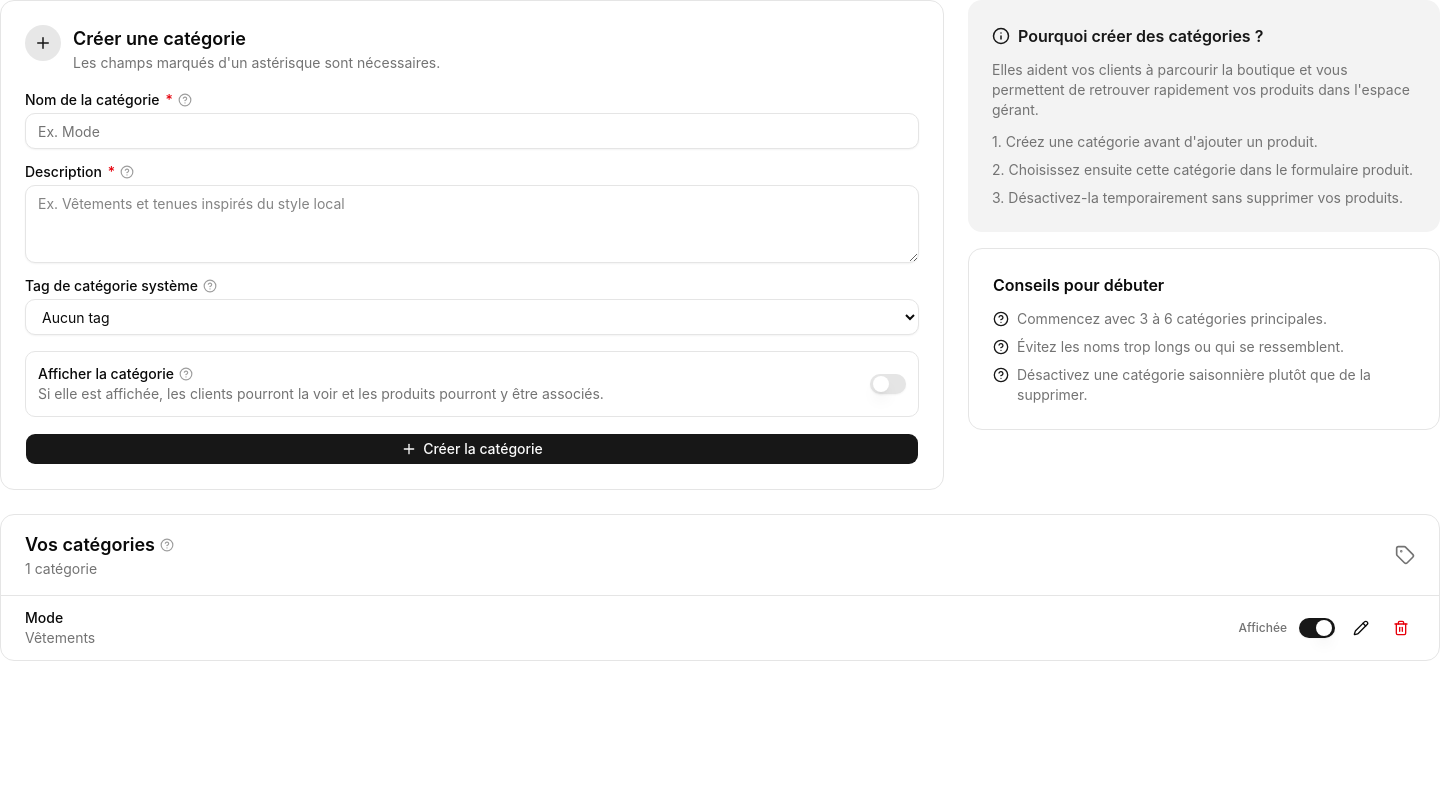
Test: CategoryManager › modifier une catégorie (double-clic ou icône) › opens the edit dialog via the edit icon, pre-filled, and saves changes
The image size is (1440, 810).
Click the button named "Modifier Mode" at coordinates (1361, 628), box 1347,614 -> 1375,642
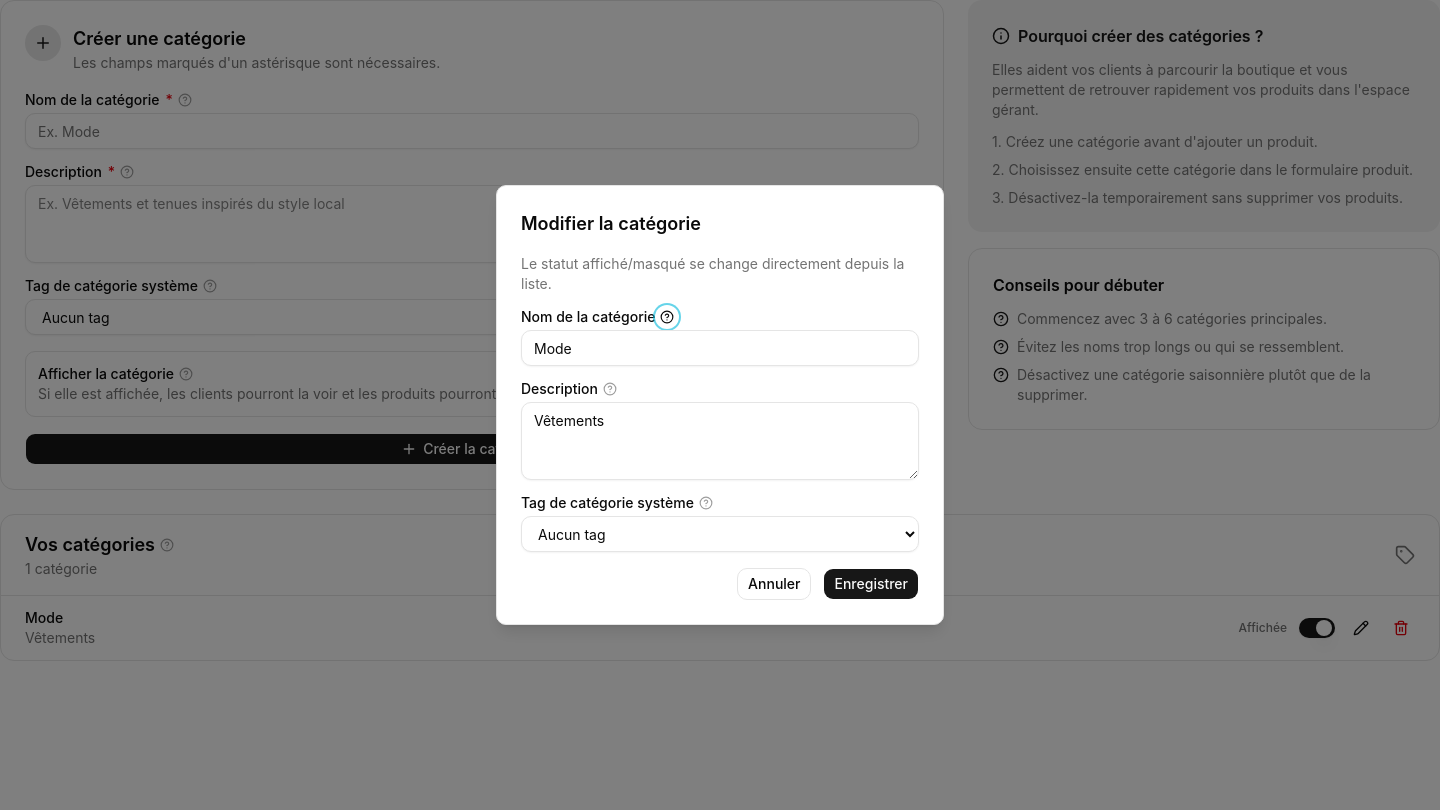
Check: the field labelled "Nom de la catégorie" holds "Mode"
Check: the text box labelled "Description" holds "Vêtements", box 521,402 -> 919,480
Replace the text in the field labelled "Nom de la catégorie" with "Mode & Accessoires" at coordinates (720, 348), box 521,330 -> 919,366
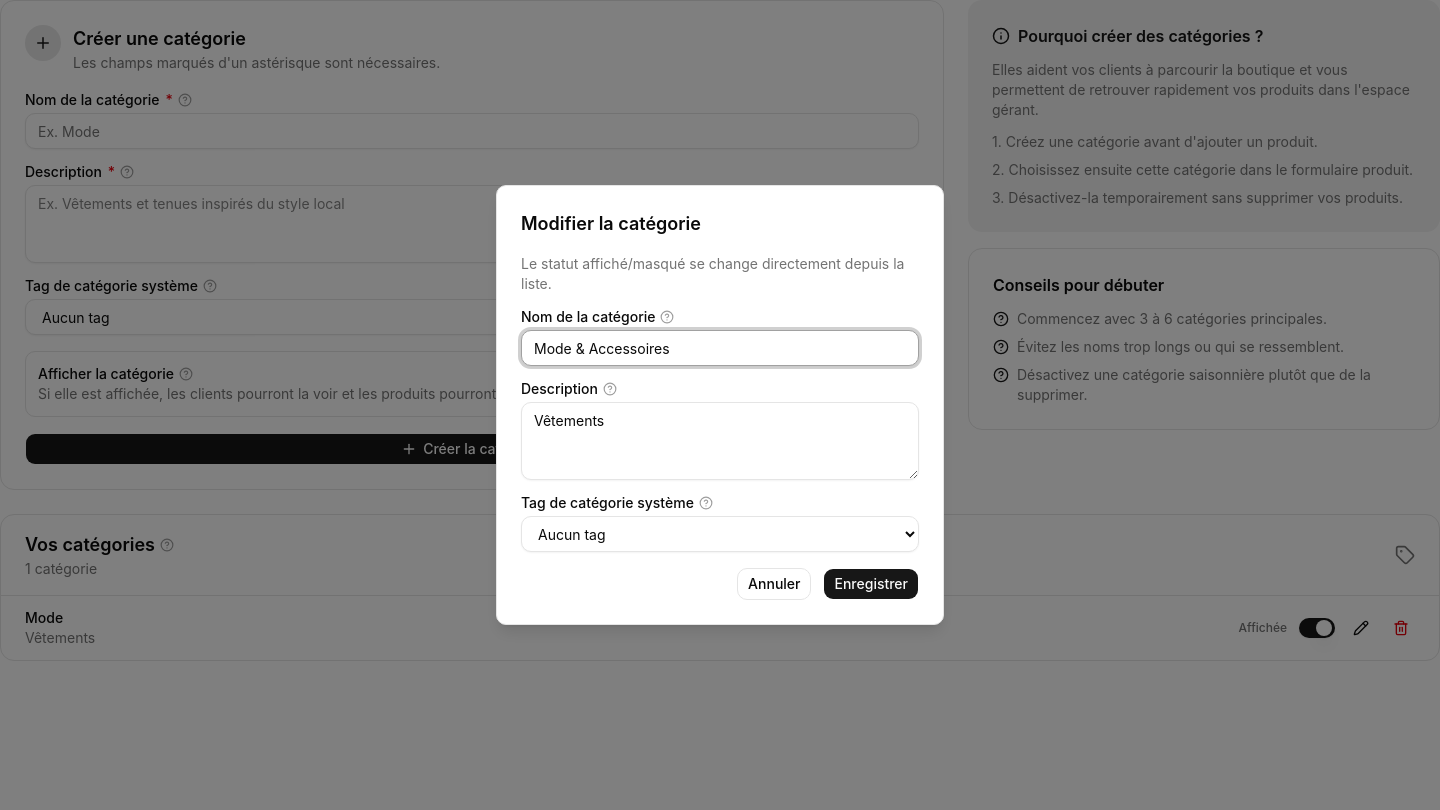
Click the button "Enregistrer" at coordinates (871, 584), box 824,568 -> 919,600
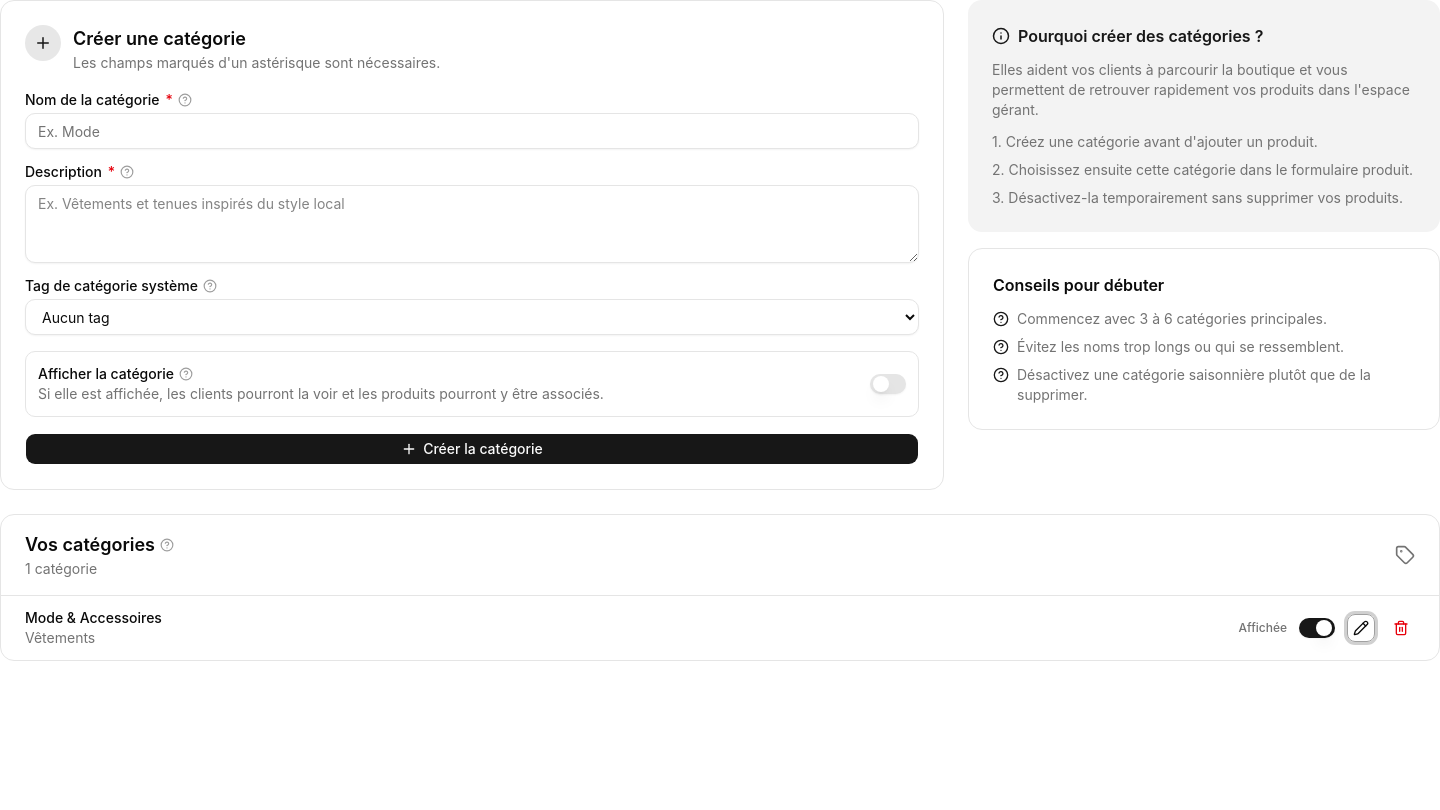
Check: the text "Mode & Accessoires" is shown, box 25,609 -> 162,626
